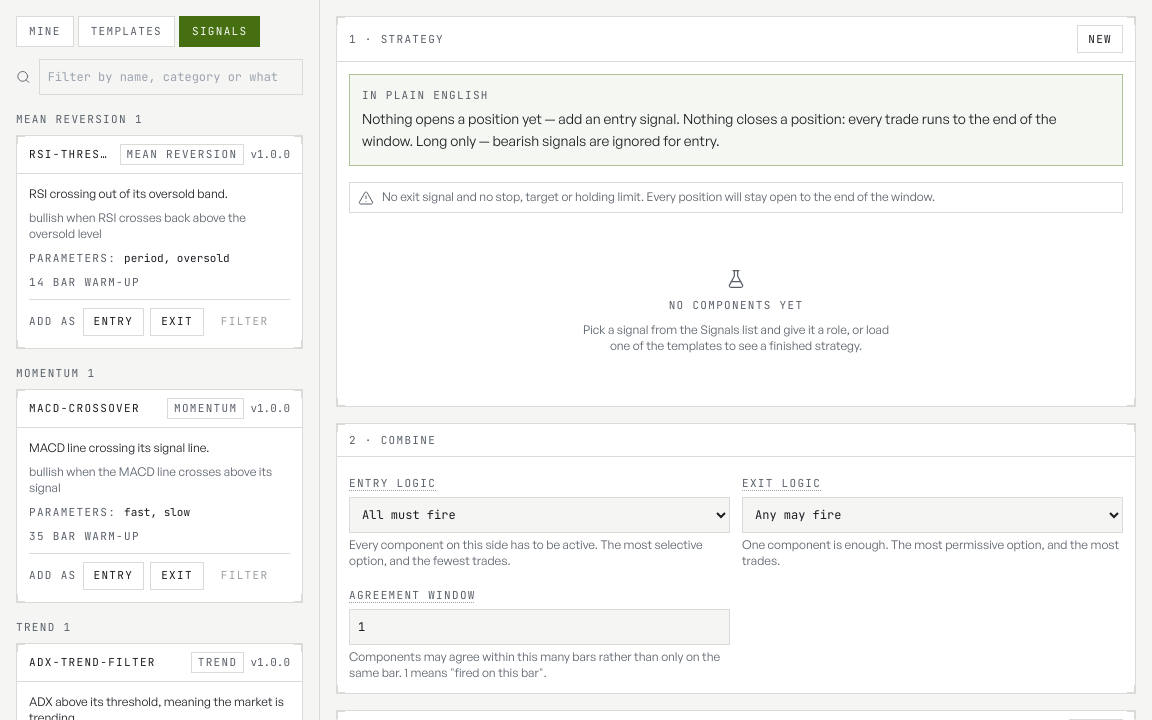
StrategyBuilder › shelves the Systematic Trading candidates with a research-only note
Click the tab "Templates" at (126, 31), box left=78, top=16, right=175, bottom=46
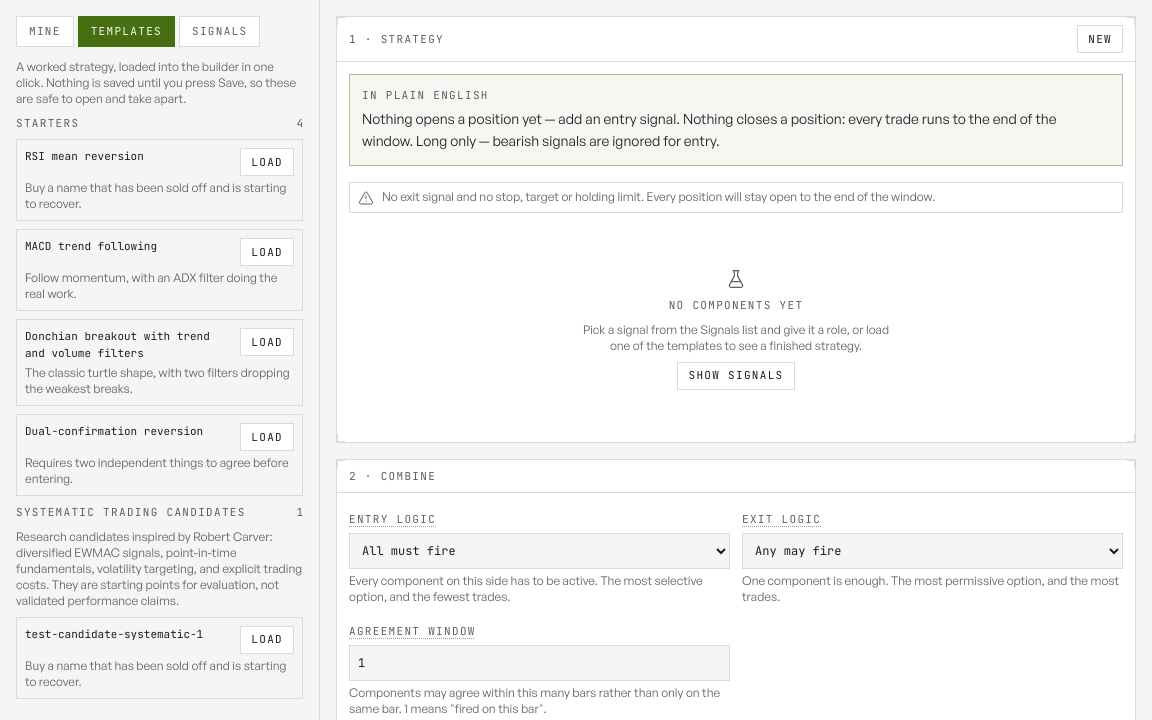
Expected: the element with test id "template-shelf-systematic-trading" shows "test-candidate-systematic-1", left=25, top=626, right=203, bottom=640
Expected: the element with test id "template-shelf-systematic-trading" shows "not validated performance claims", left=16, top=528, right=302, bottom=608
